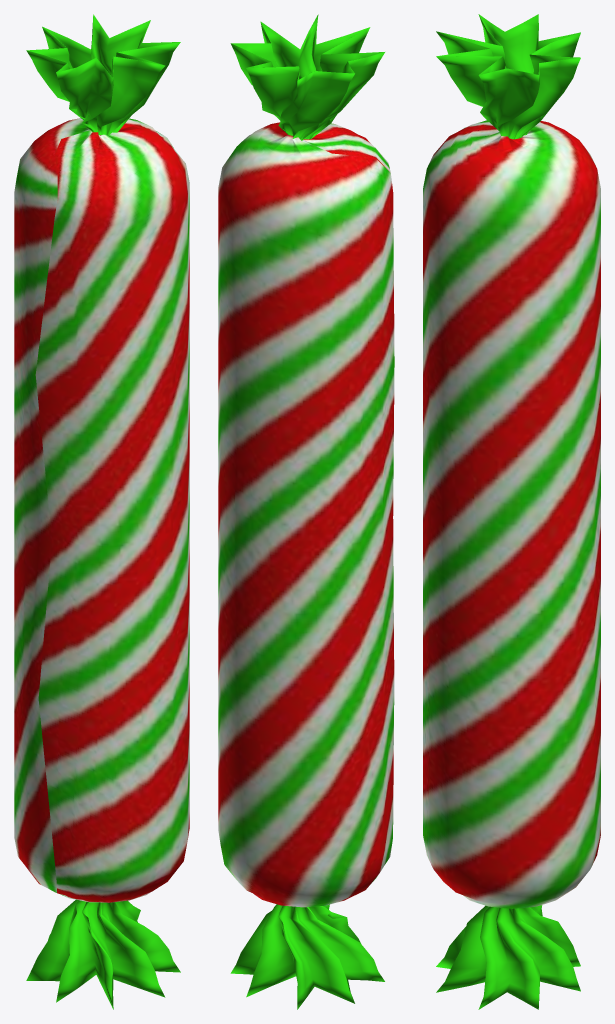
The model's file is Candy Long.fbx.
The picture shows the model from 3 angles, left to right: view 1: azimuth 30°, elevation 25°; view 2: azimuth 150°, elevation 25°; view 3: azimuth 270°, elevation 25°; orthographic projection.
Visible parts, largest first — view 1: Candy Long; view 2: Candy Long; view 3: Candy Long.
Boxes of the visible parts, x1=… form: Candy Long: x1=14, y1=14, x2=189, y2=1009; Candy Long: x1=218, y1=14, x2=394, y2=1009; Candy Long: x1=423, y1=14, x2=600, y2=1009.
Bounding box in the file's own units: 66.02 × 380 × 65.45.
